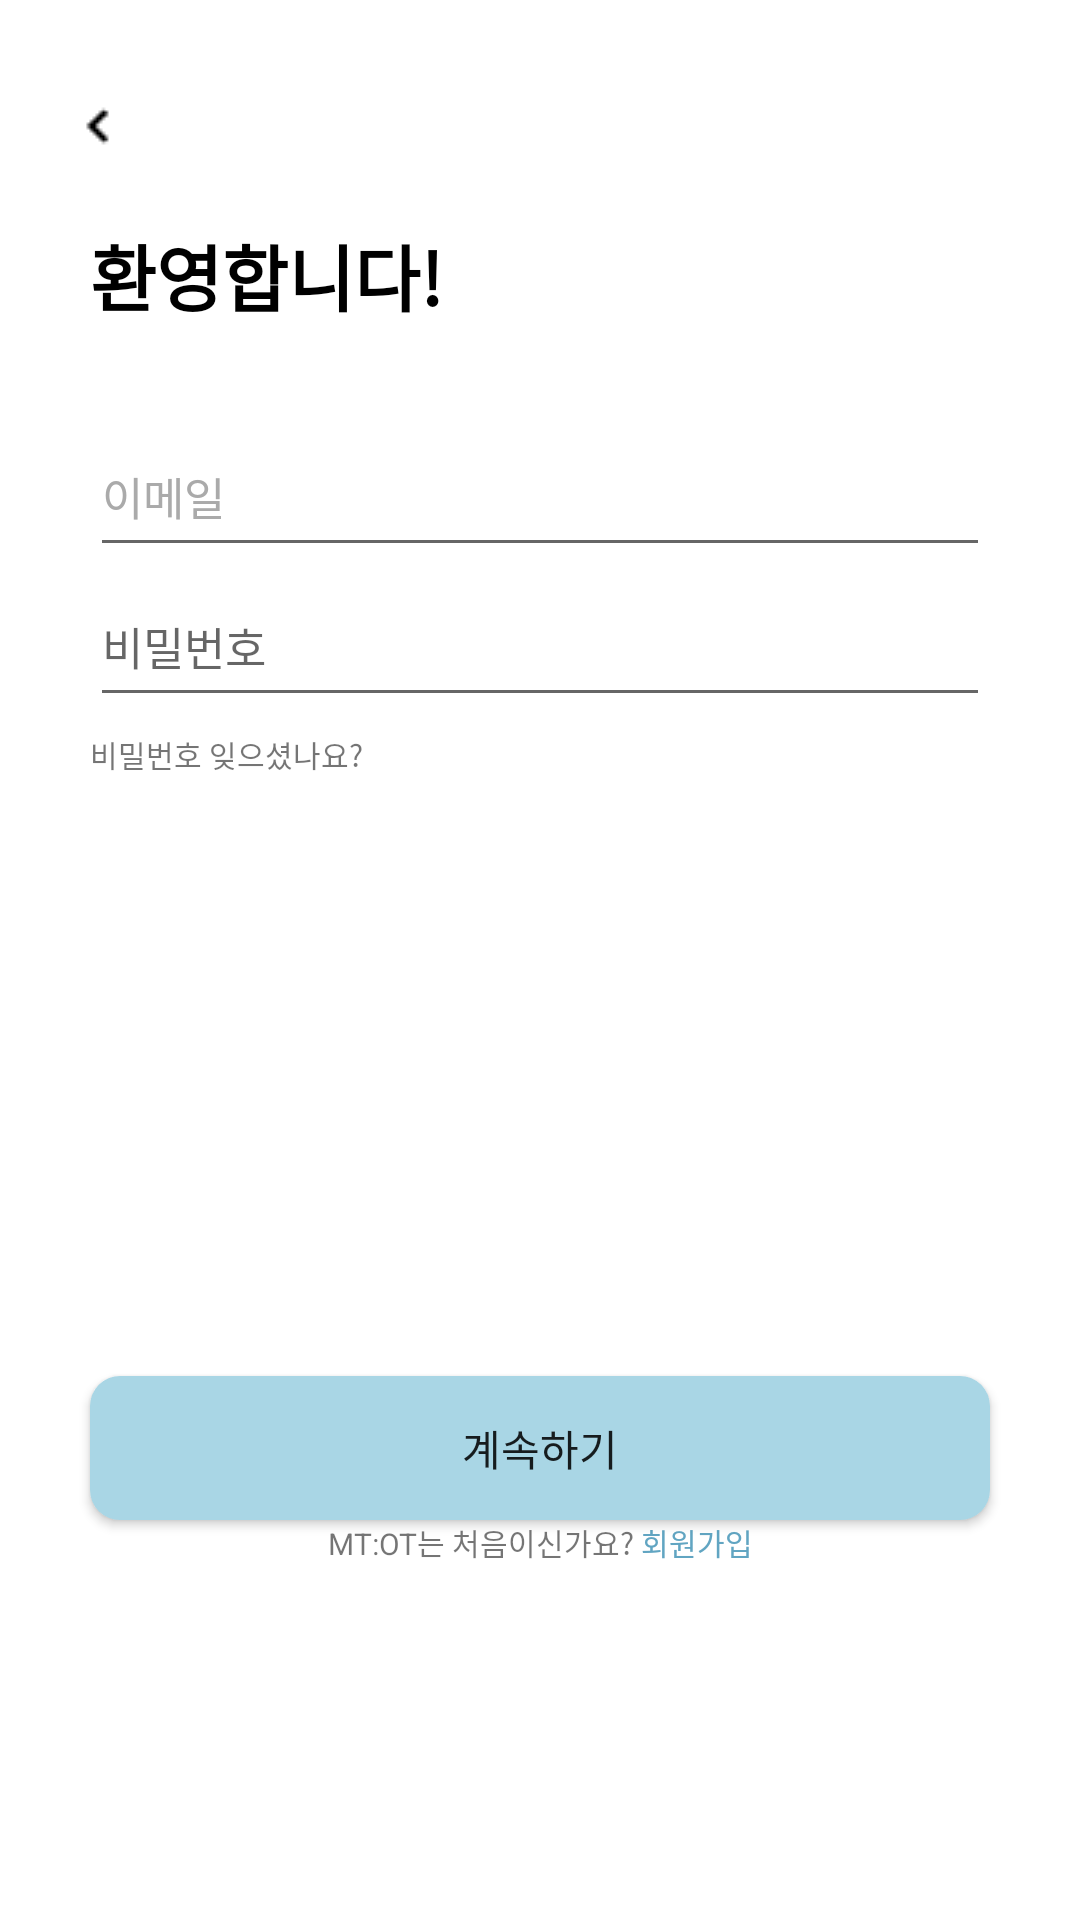

Named icons in this screenshot (1080px x 1920px) and their bounding boxes, (x1, y1, x2, y2):
back: (86, 108, 109, 144)
